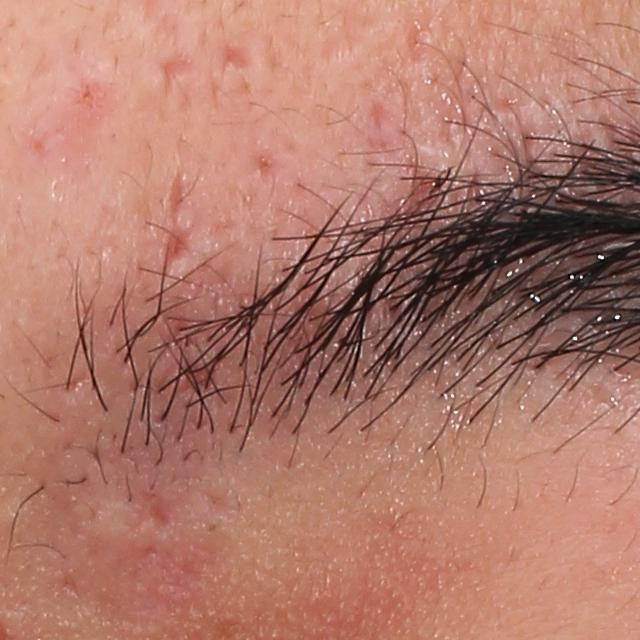atrophic_scar: (194, 483, 245, 524), (157, 53, 201, 96), (163, 226, 193, 273), (404, 18, 432, 67), (218, 42, 251, 77), (168, 172, 183, 227), (364, 99, 384, 137)
hypertrophic_scar: (76, 490, 165, 551)
